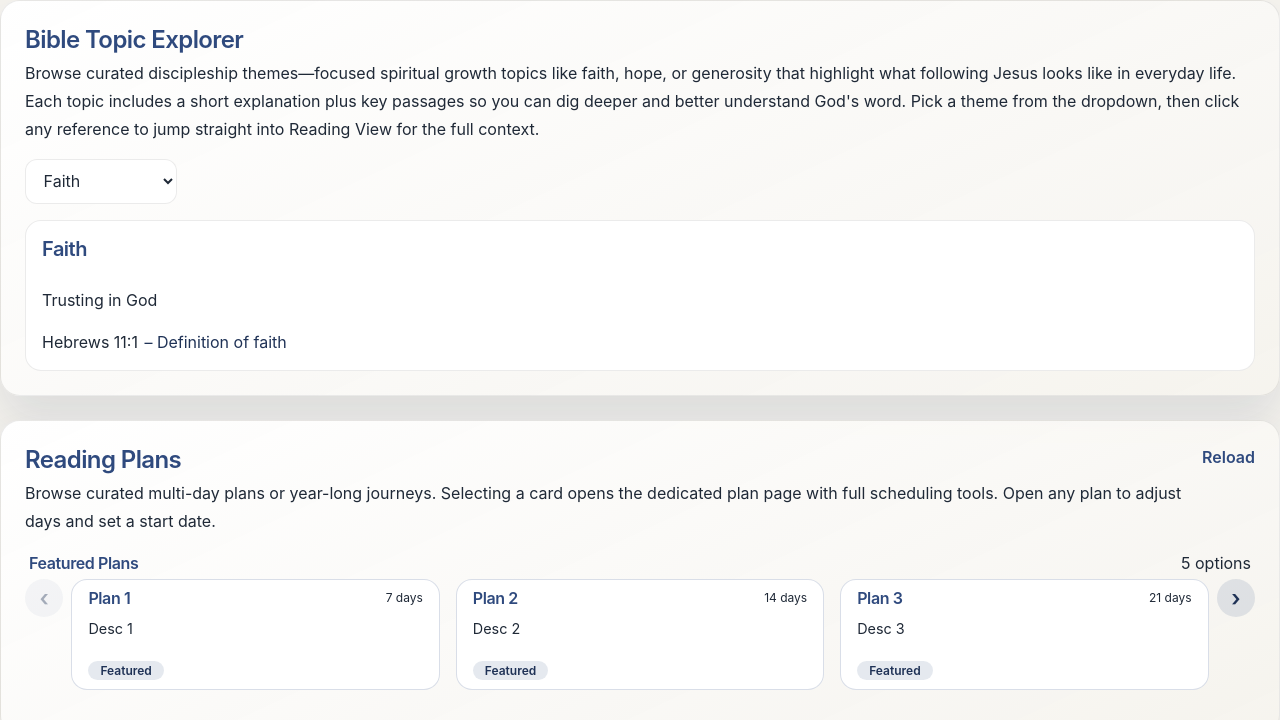
Test: StudyResources › Carousel Navigation › disables next arrow when at the end of featured carousel
// Click next enough times to reach the end (5 plans, 3 visible, so 2 clicks)
Click the button with class "carousel-arrow" showing "›". click: coordinates (1236, 598)
box: x1=1217 y1=579 x2=1255 y2=617
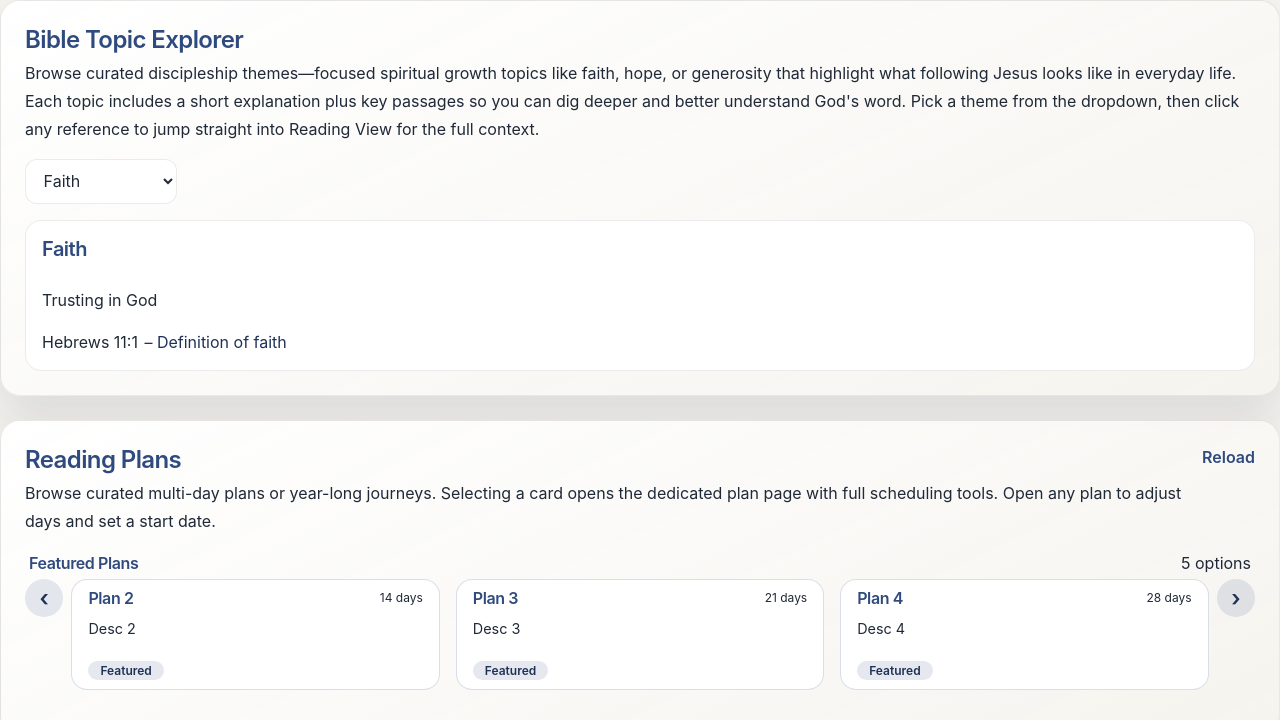
Click the button with class "carousel-arrow" showing "›". click: coordinates (1236, 598)
box: x1=1217 y1=579 x2=1255 y2=617
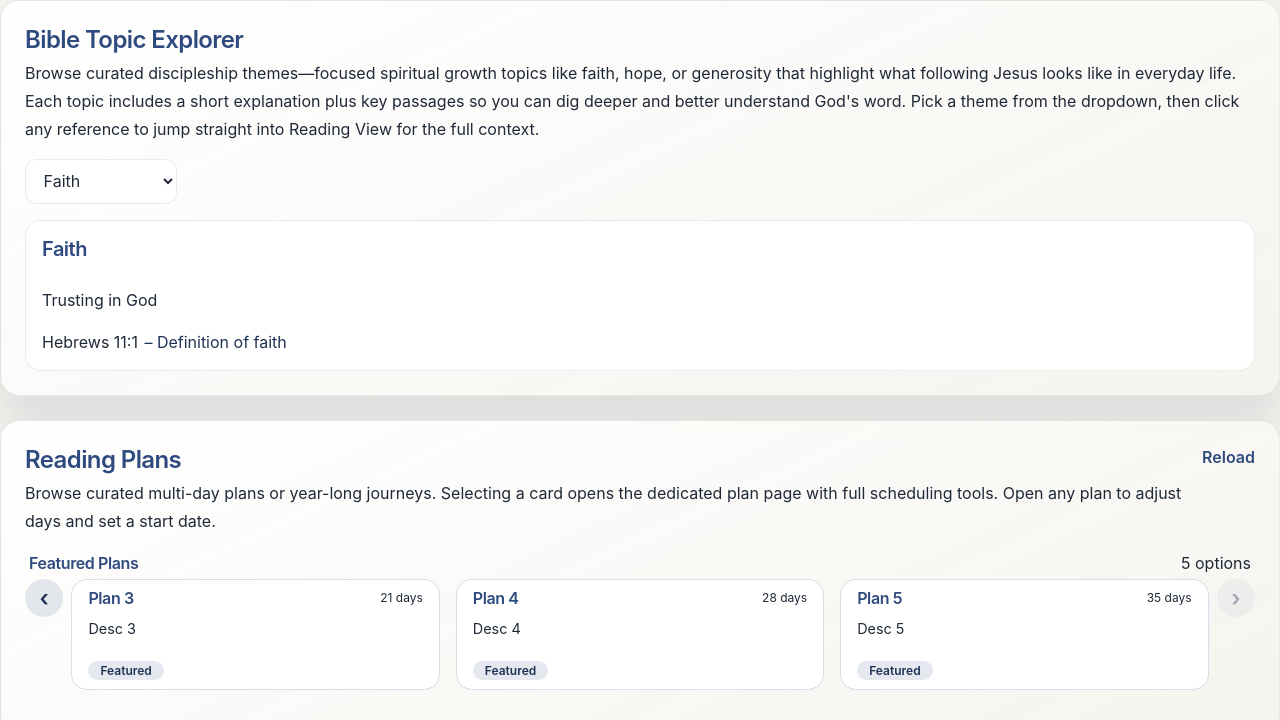
Expected: the button with class "carousel-arrow" showing "›" is disabled, x1=1217 y1=579 x2=1255 y2=617
